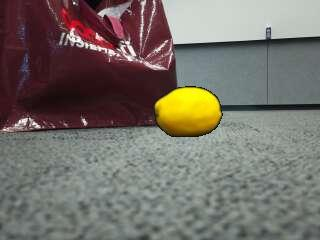lemon: (155, 87, 221, 137)
